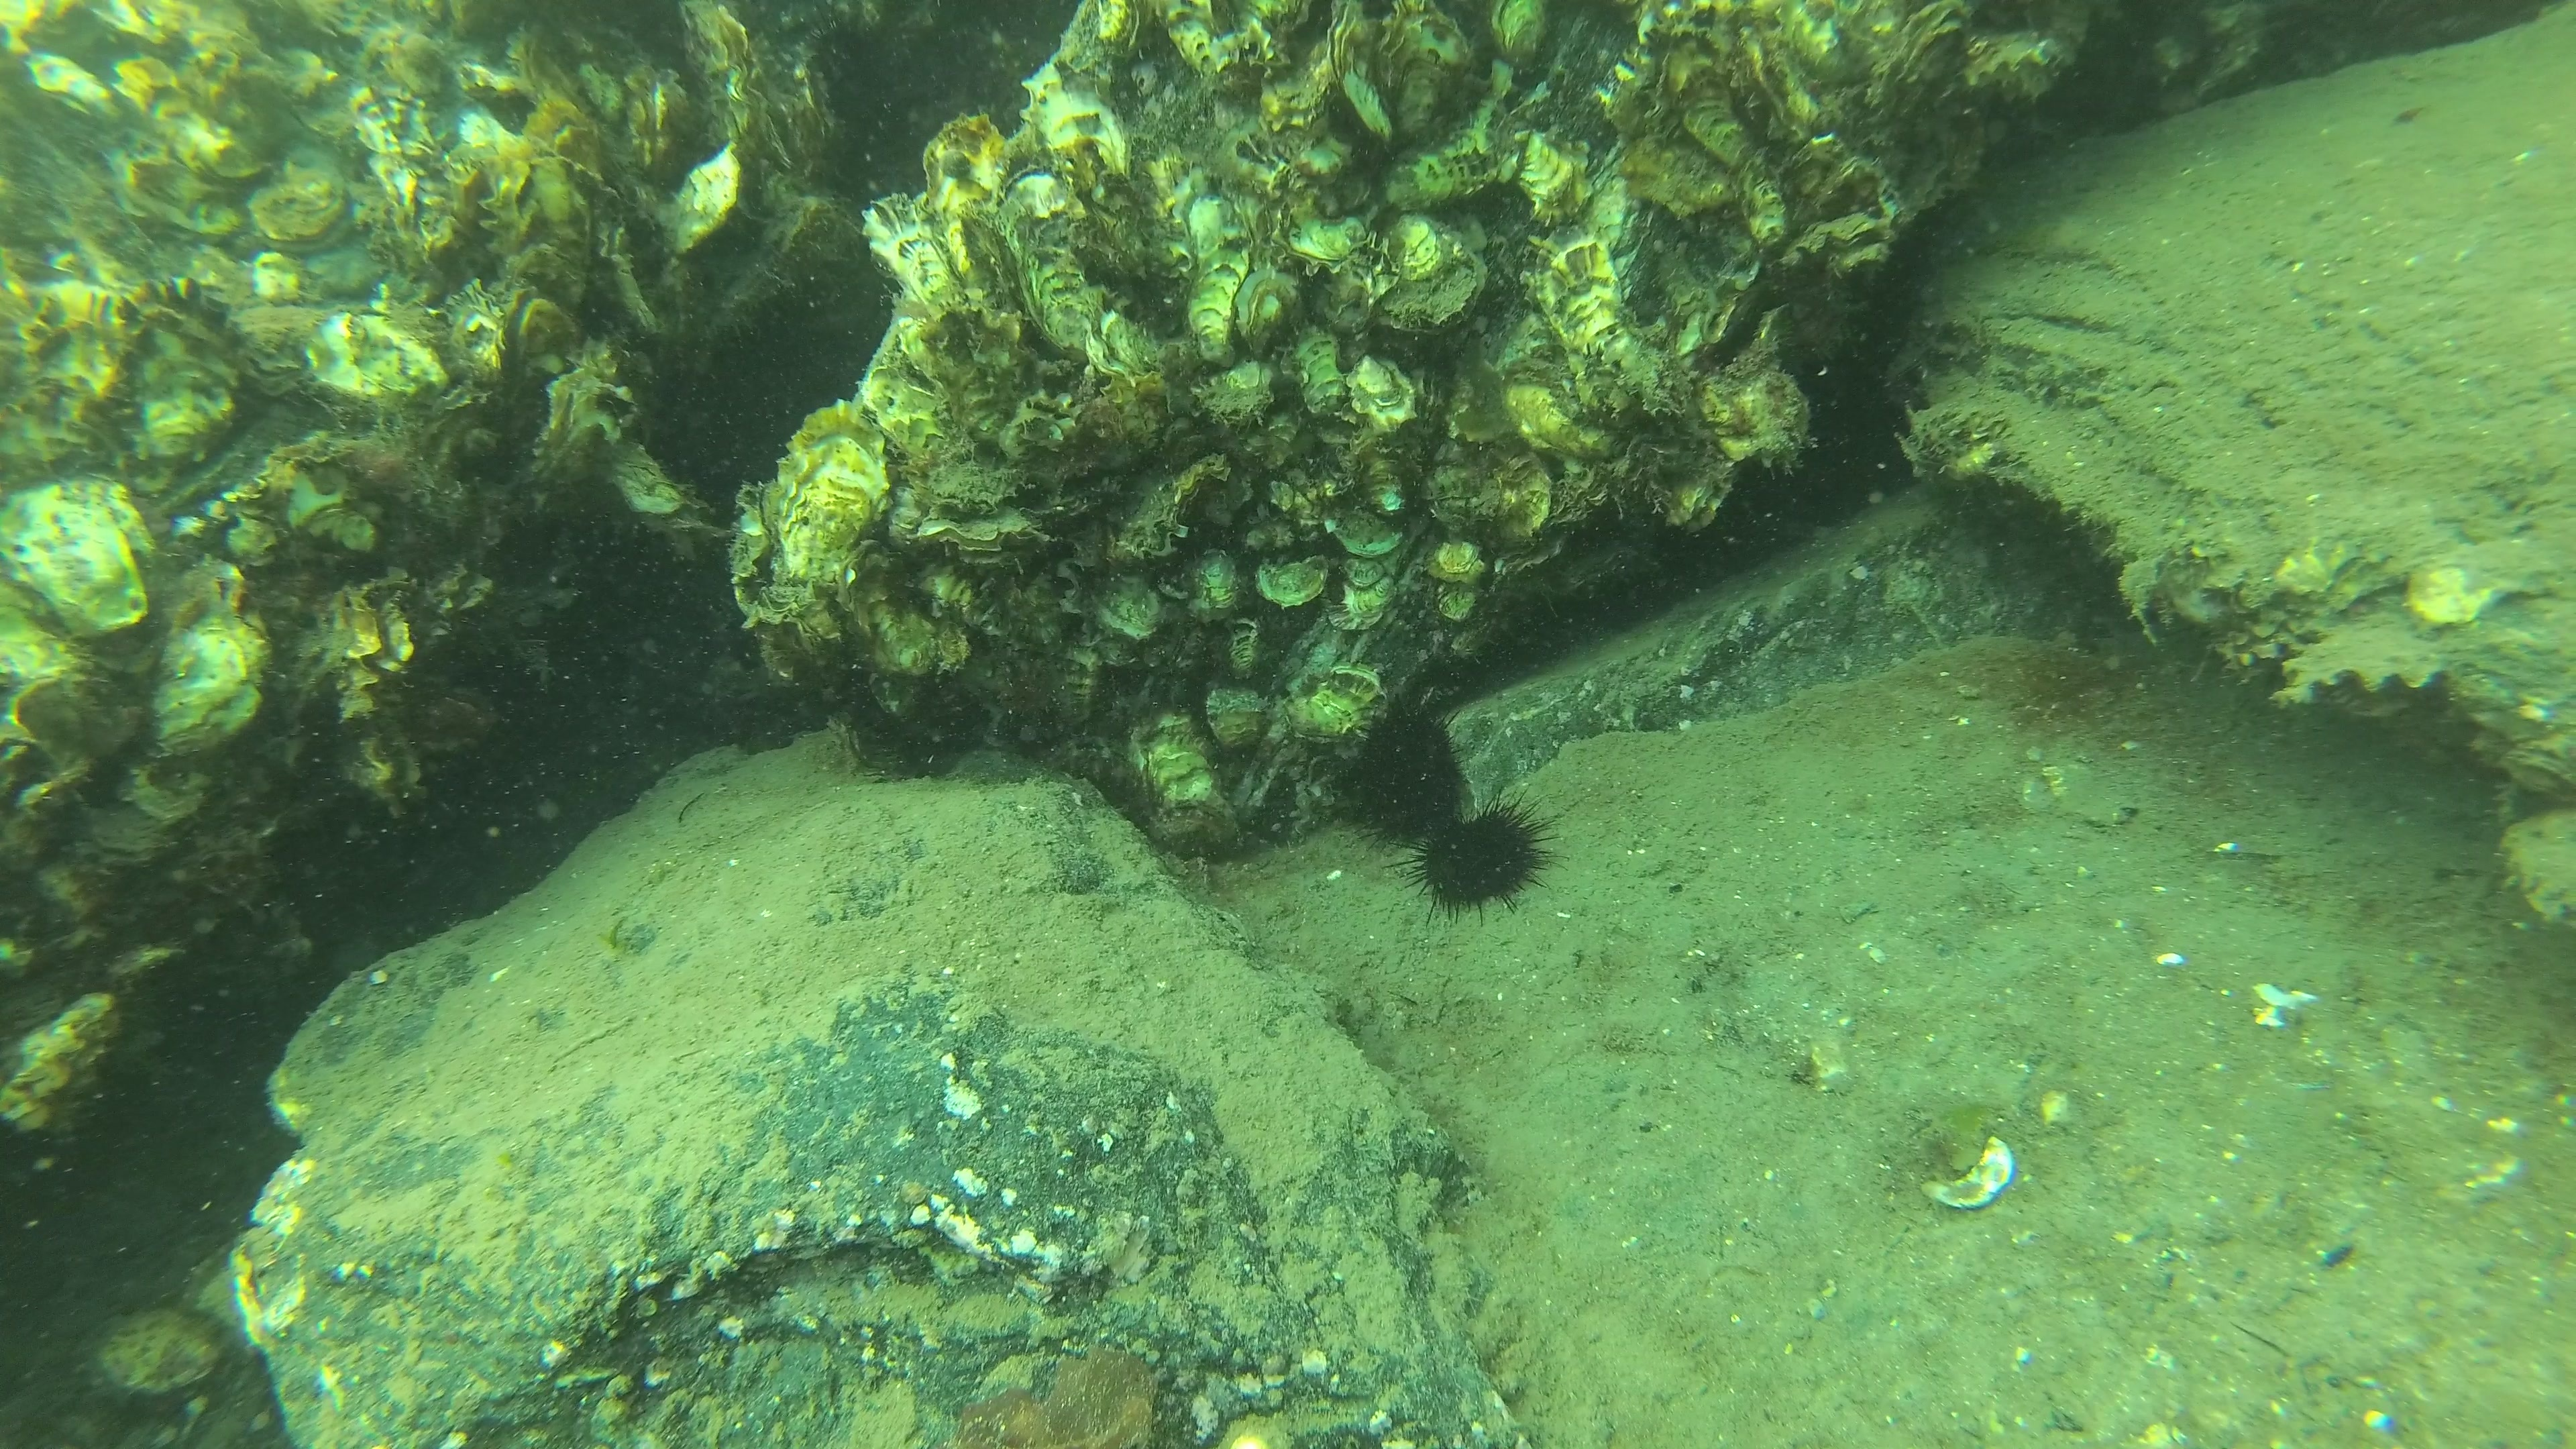echinus: (1414, 791, 1550, 915), (1343, 706, 1470, 832)
